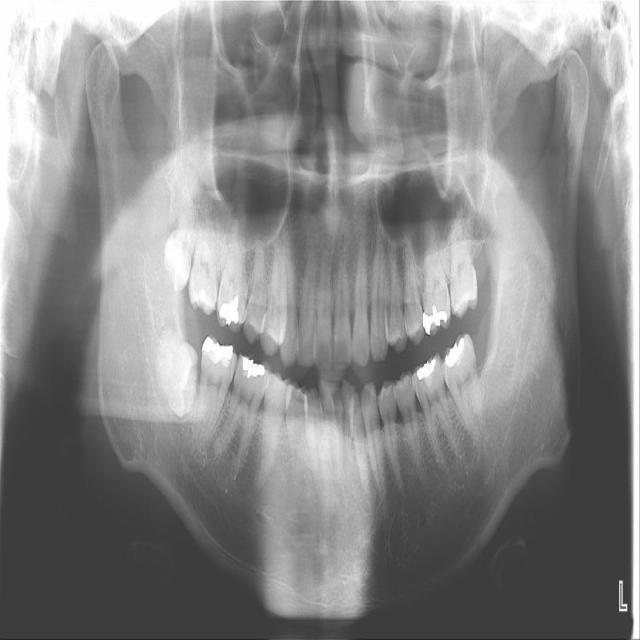Filling: (202, 335, 233, 367), (422, 303, 447, 336), (219, 294, 239, 327), (445, 337, 464, 367), (242, 356, 265, 380), (416, 357, 436, 381)
impacted tooth: (155, 333, 196, 419), (164, 206, 196, 292)
